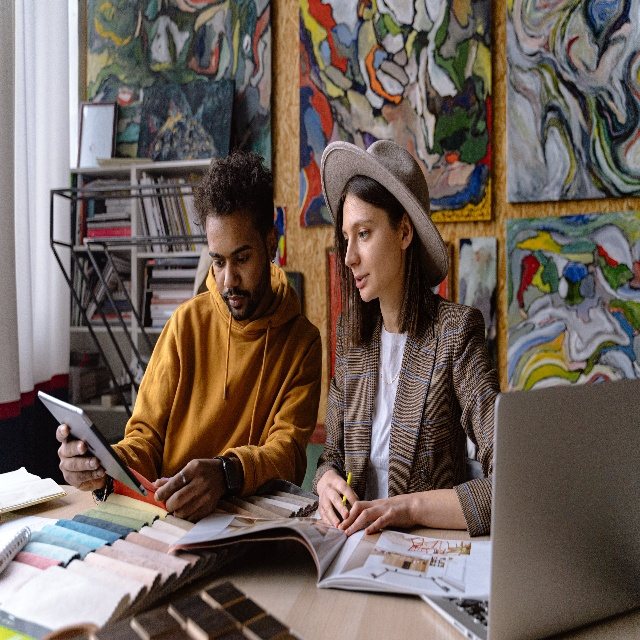Sin_guantes: (154, 457, 223, 522), (55, 422, 106, 491), (337, 492, 415, 534), (318, 470, 360, 529)
